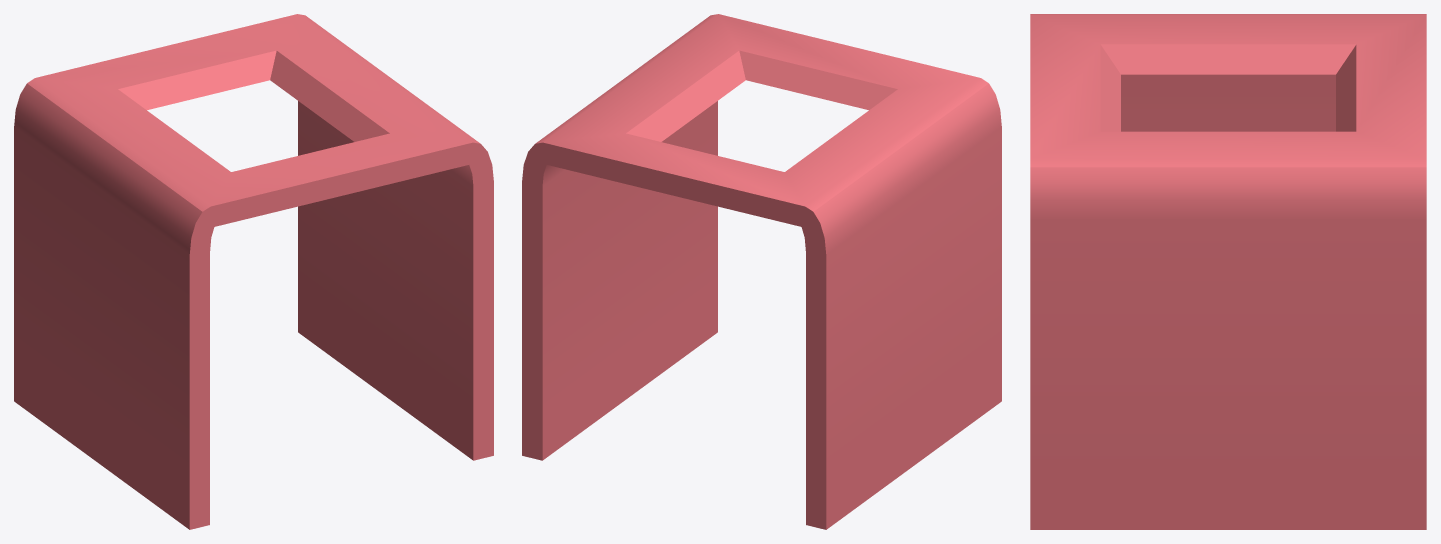
Rendered from Props_Conveyor_Pink_Connector_01.fbx.
The picture shows the model from 3 angles, left to right: view 1: azimuth 30°, elevation 25°; view 2: azimuth 150°, elevation 25°; view 3: azimuth 270°, elevation 25°; orthographic projection. The views are drawn at different scales.
Visible parts, largest first — view 1: Props_Conveyor_Pink_Connector_01; view 2: Props_Conveyor_Pink_Connector_01; view 3: Props_Conveyor_Pink_Connector_01.
Boxes of the visible parts, bbox=[...] form: Props_Conveyor_Pink_Connector_01: bbox=[14, 14, 493, 529]; Props_Conveyor_Pink_Connector_01: bbox=[522, 14, 1001, 529]; Props_Conveyor_Pink_Connector_01: bbox=[1030, 14, 1426, 529].
Bounding box in the file's own units: 100 × 100 × 100.
